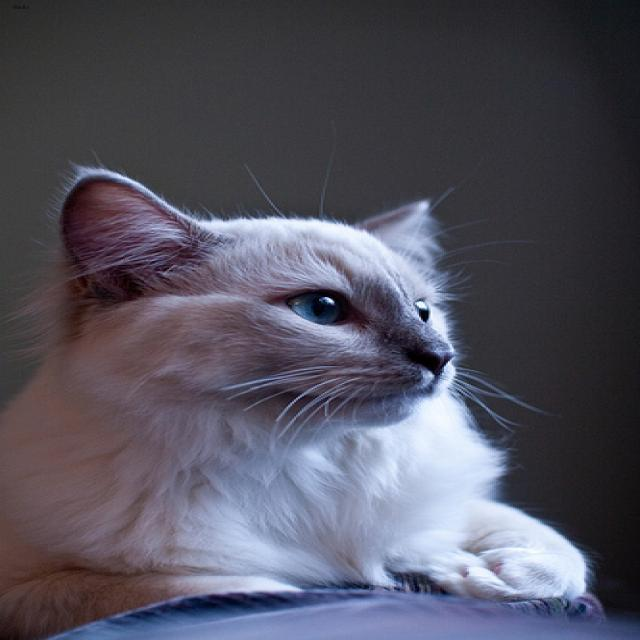Ragdoll: (60, 163, 466, 435)
